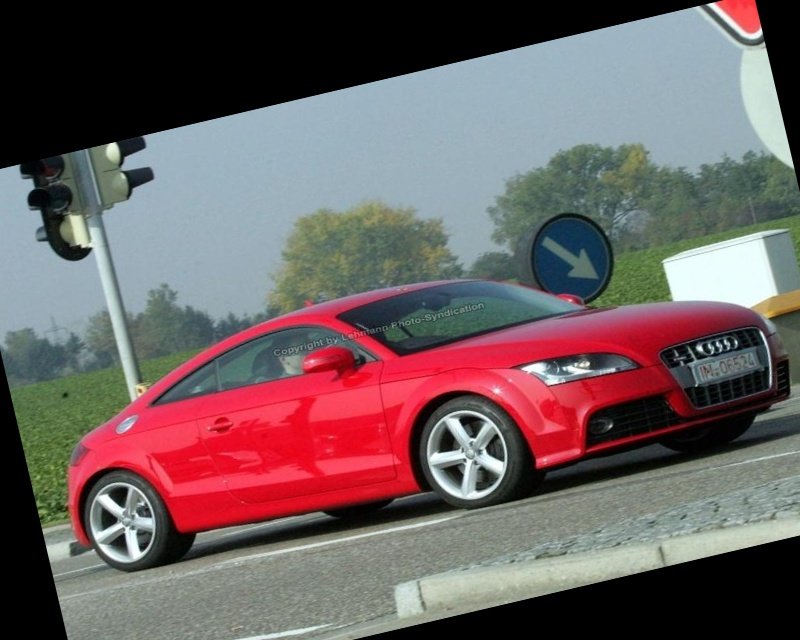car: (21, 181, 800, 632)
